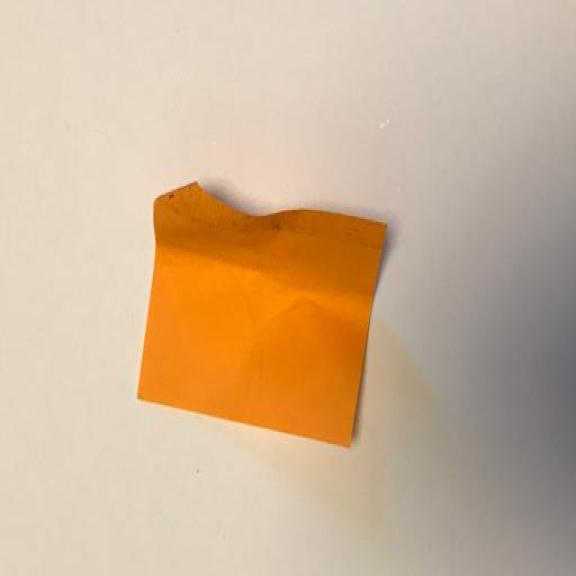Kertas: (128, 169, 406, 455)
